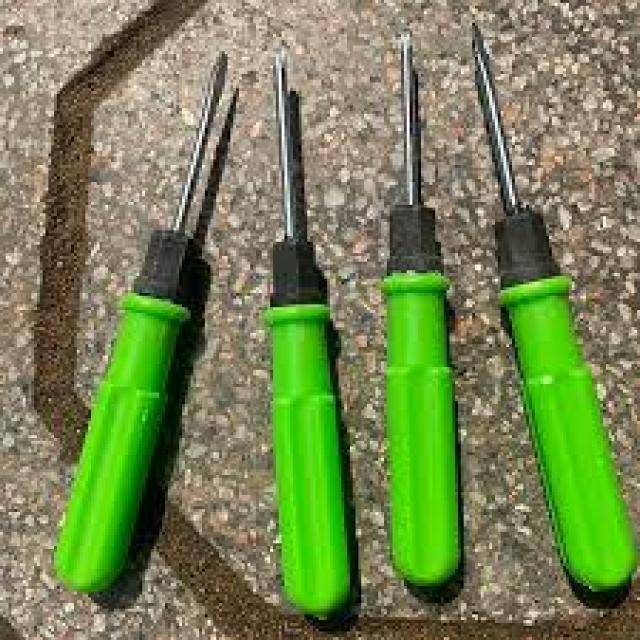screwdriver: (51, 44, 233, 596), (470, 19, 636, 600), (264, 46, 362, 624), (377, 30, 468, 596)
